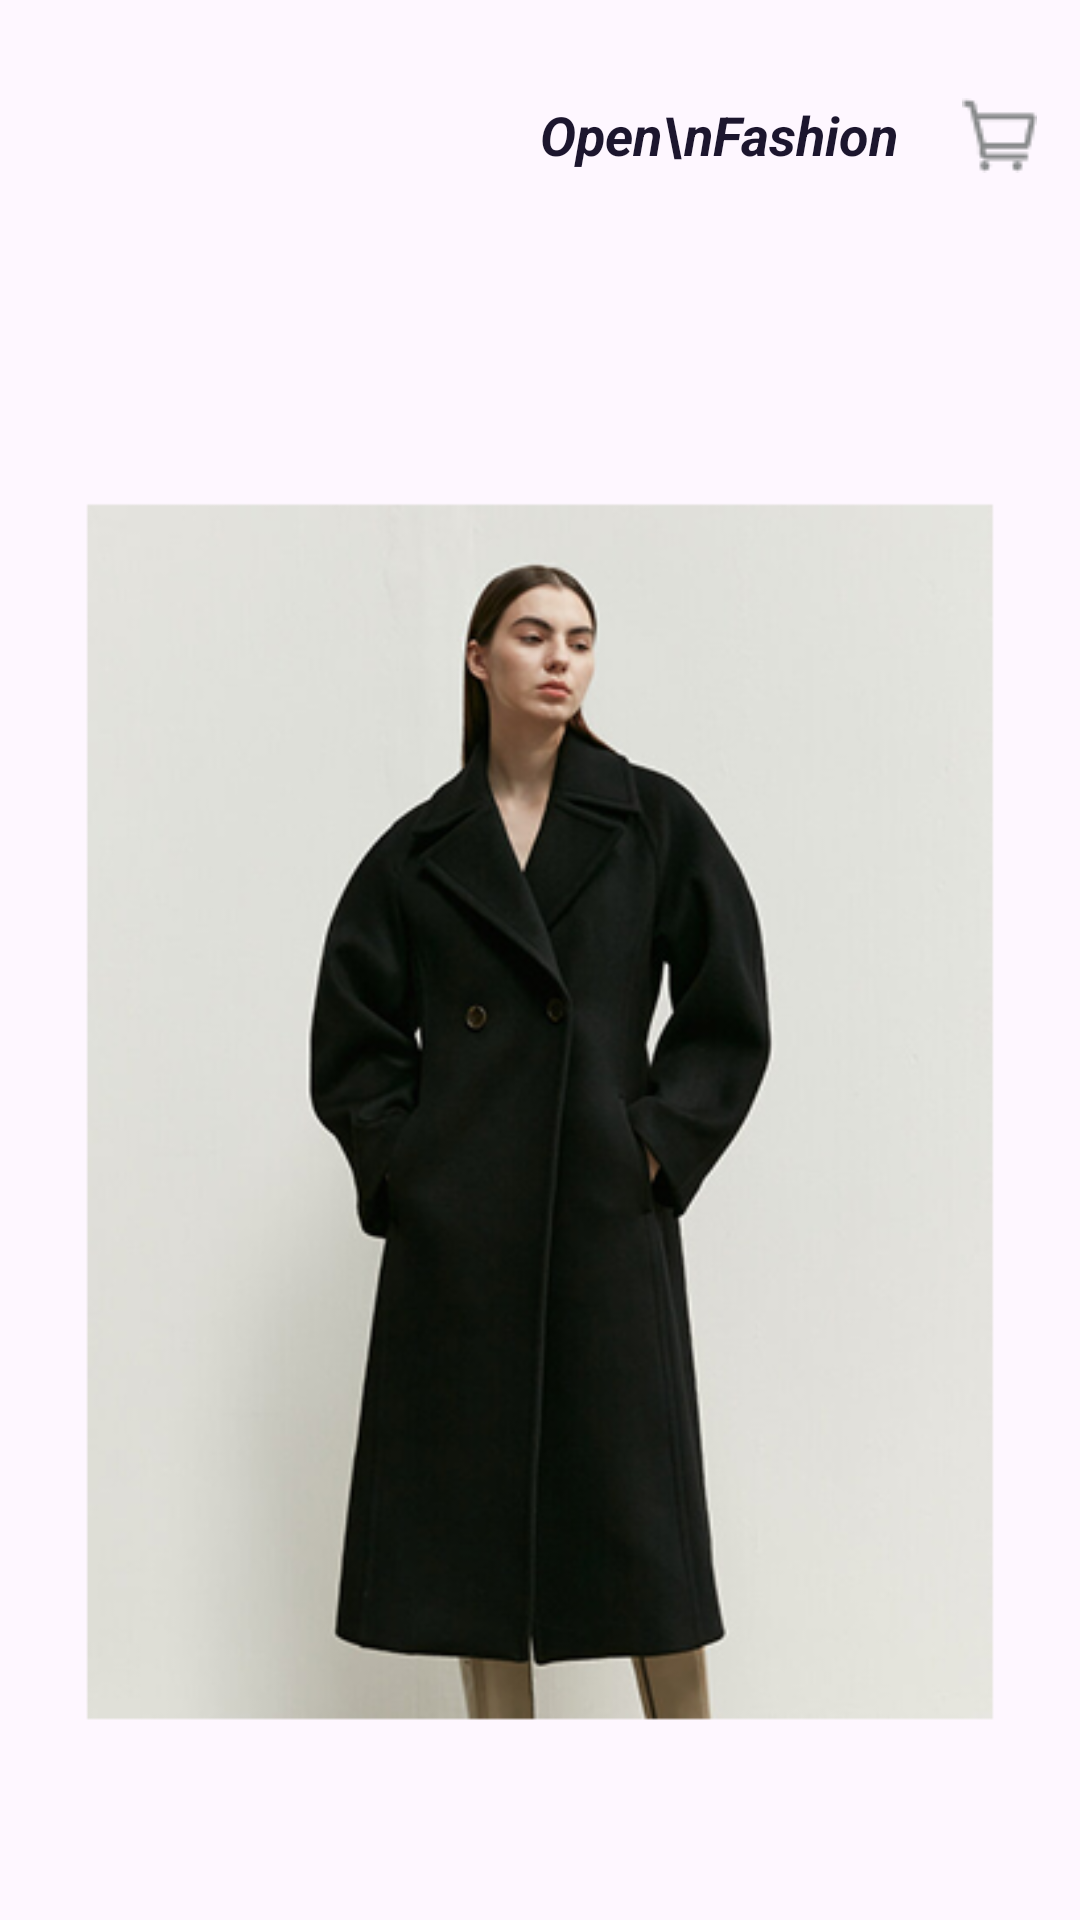

Point at icon controls on the screen. Image size 1080*1920, points as (x=x, y=y).
cart: (x=999, y=135)
